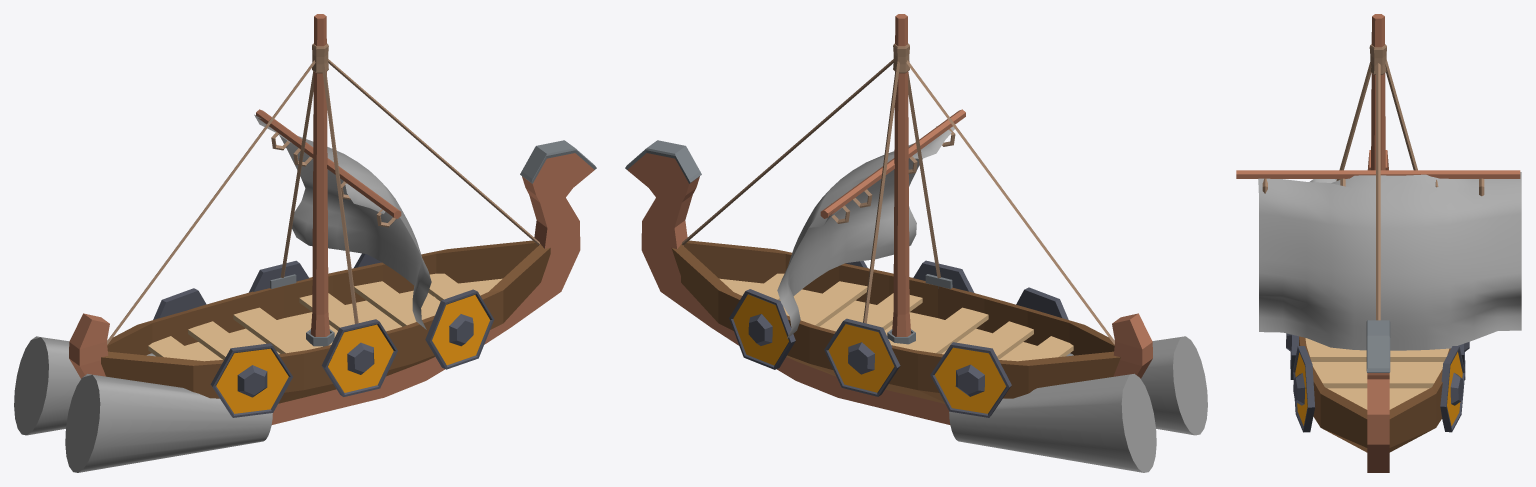
The model's file is spacelong.fbx.
3 views of the same model, side by side, from view 1: azimuth 30°, elevation 25°; view 2: azimuth 150°, elevation 25°; view 3: azimuth 270°, elevation 25° (orthographic). The views are drawn at different scales.
Parts seen in each view (by area): view 1: Cube, pCylinder1, pPlane2, pCylinder2; view 2: Cube, pCylinder2, pPlane2, pCylinder1; view 3: pPlane2, Cube.
Part boxes in pixels (x1,y1,x2,y2): Cube: (69, 14, 596, 424); pCylinder1: (65, 374, 272, 472); pPlane2: (254, 114, 431, 329); pCylinder2: (14, 336, 155, 435); Cube: (625, 14, 1152, 424); pCylinder2: (949, 373, 1156, 472); pPlane2: (777, 126, 954, 338); pCylinder1: (1066, 336, 1207, 435); pPlane2: (1258, 172, 1521, 350); Cube: (1236, 14, 1520, 472).
Size of the model in its own units: 7.09 by 4.88 by 3.13.
